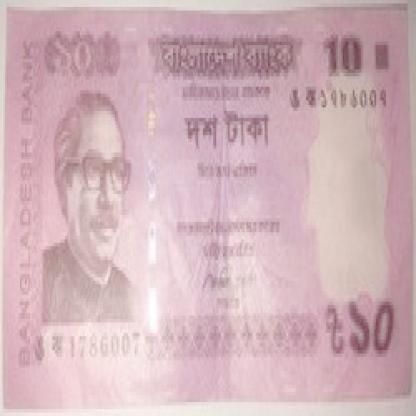Ten Taka: (346, 288, 399, 371), (47, 21, 107, 90), (321, 21, 366, 94)
